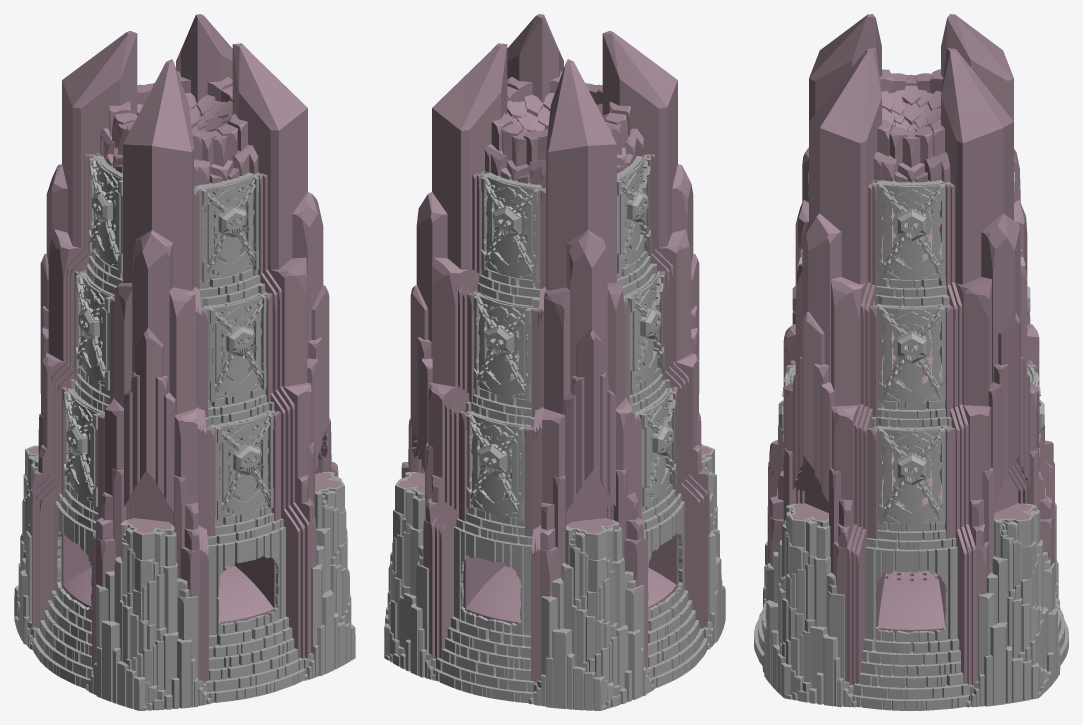
The model's file is tower.glb.
3 views of the same model, side by side, from view 1: azimuth 30°, elevation 25°; view 2: azimuth 150°, elevation 25°; view 3: azimuth 270°, elevation 25° (orthographic).
Parts seen in each view (by area): view 1: Return to Dark Tower, seal_north_top, seal_north_middle, seal_north_bottom, seal_west_middle, seal_west_bottom, seal_west_top; view 2: Return to Dark Tower, seal_south_top, seal_south_bottom, seal_south_middle, seal_west_bottom, seal_west_middle, seal_west_top; view 3: Return to Dark Tower, seal_east_middle, seal_east_bottom, seal_east_top.
Boxes of the visible parts, x1,y1,x2,y2 form: Return to Dark Tower: (14, 14, 355, 710); seal_north_top: (194, 173, 260, 282); seal_north_middle: (201, 292, 267, 401); seal_north_bottom: (208, 411, 274, 520); seal_west_middle: (76, 271, 114, 390); seal_west_bottom: (64, 388, 104, 506); seal_west_top: (89, 154, 122, 273); Return to Dark Tower: (384, 14, 725, 710); seal_south_top: (480, 173, 545, 282); seal_south_bottom: (465, 411, 532, 520); seal_south_middle: (472, 292, 538, 402); seal_west_bottom: (634, 388, 676, 506); seal_west_middle: (623, 271, 664, 390); seal_west_top: (617, 154, 650, 273); Return to Dark Tower: (754, 14, 1068, 710); seal_east_middle: (873, 303, 950, 402); seal_east_bottom: (873, 425, 950, 524); seal_east_top: (873, 181, 950, 280).
Bounding box in the file's own units: 13.99 × 30.08 × 13.99.
